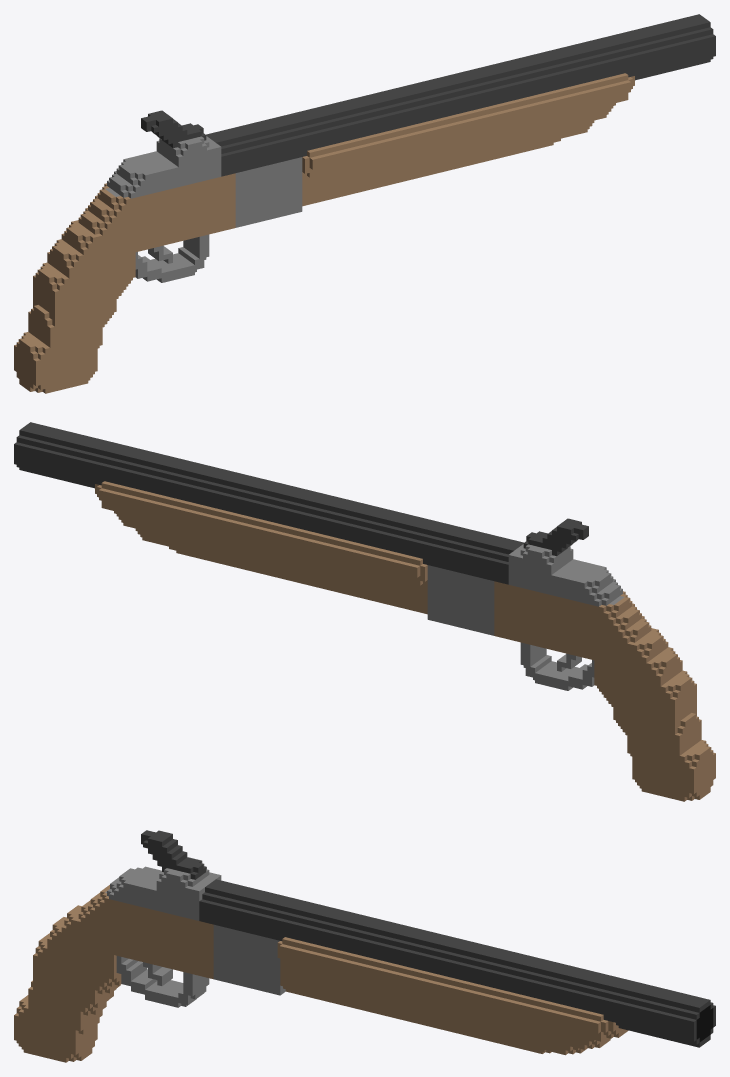
File: Shotgun.obj
3 renders of one model, top to bottom at view 1: azimuth 30°, elevation 25°; view 2: azimuth 150°, elevation 25°; view 3: azimuth 330°, elevation 25°, orthographic.
Size of the model in its own units: 14.3 by 4.8 by 1.2.
Materials: 1 (1 with a texture image).
